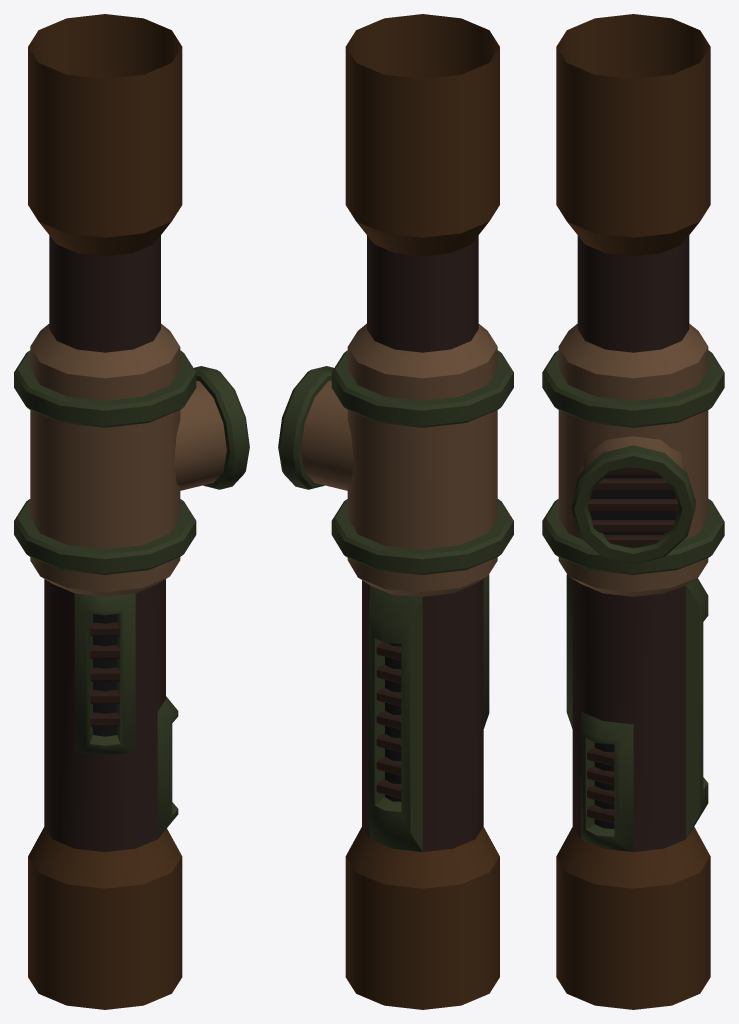
File: OBJ_VAR_1_Tuyau_1_LOD.fbx
The picture shows the model from 3 angles, left to right: view 1: azimuth 30°, elevation 25°; view 2: azimuth 150°, elevation 25°; view 3: azimuth 270°, elevation 25°; orthographic projection.
Parts seen in each view (by area): view 1: OBJ_VAR_1_Tuyau_1_LOD; view 2: OBJ_VAR_1_Tuyau_1_LOD; view 3: OBJ_VAR_1_Tuyau_1_LOD.
Part boxes in pixels (bbox=[...]): OBJ_VAR_1_Tuyau_1_LOD: bbox=[14, 14, 249, 1009]; OBJ_VAR_1_Tuyau_1_LOD: bbox=[278, 14, 513, 1009]; OBJ_VAR_1_Tuyau_1_LOD: bbox=[542, 14, 724, 1009].
Bounding box in the file's own units: 1745 × 8000 × 1419.
